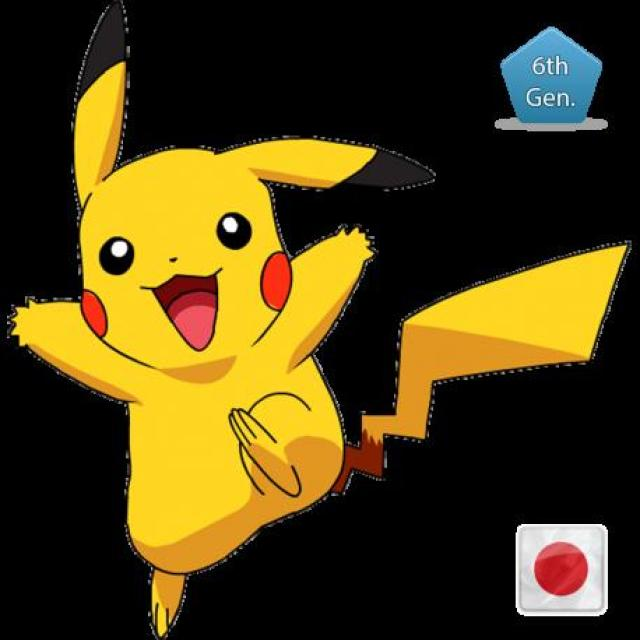pikachu: (12, 0, 633, 639)
